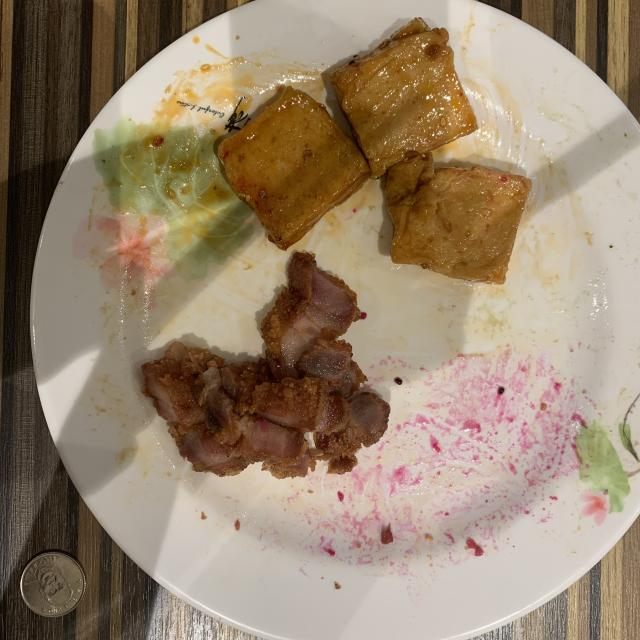coin: (20, 551, 85, 618)
creamy tofu: (219, 19, 531, 282)
red grilled pork: (141, 252, 390, 479)
